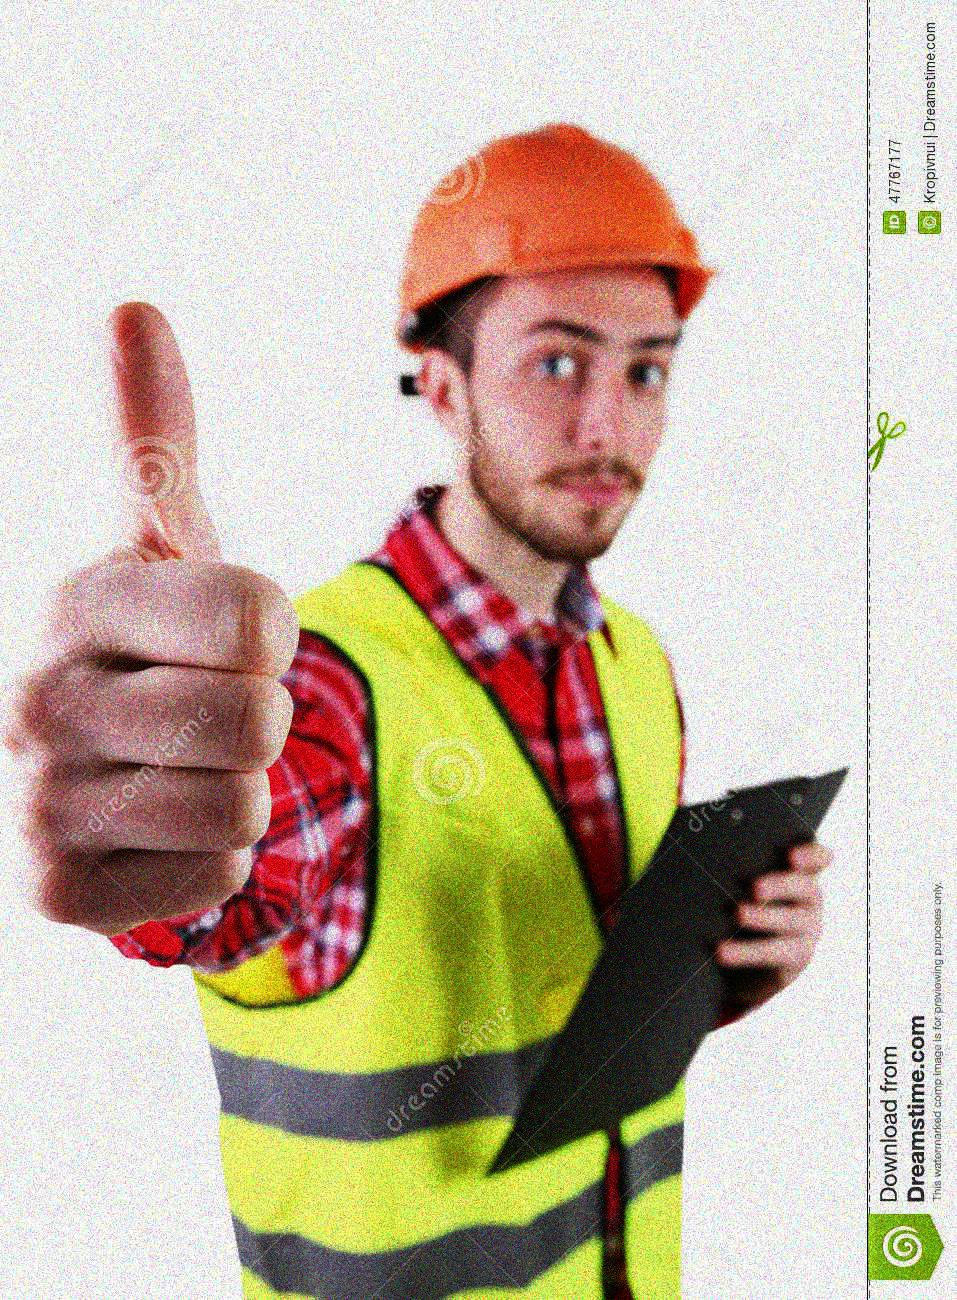helmet: (393, 125, 723, 564)
